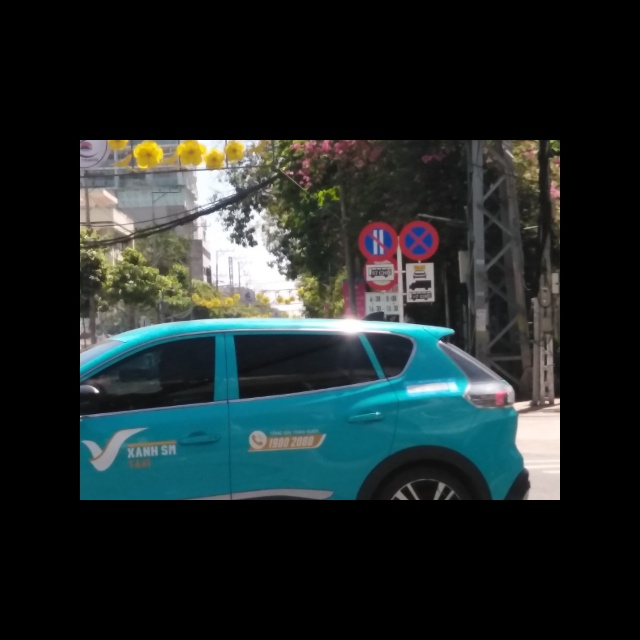Cấm dừng xe và đỗ xe: (399, 220, 439, 261)
Cấm đỗ xe ngày chẵn: (356, 221, 398, 261)
